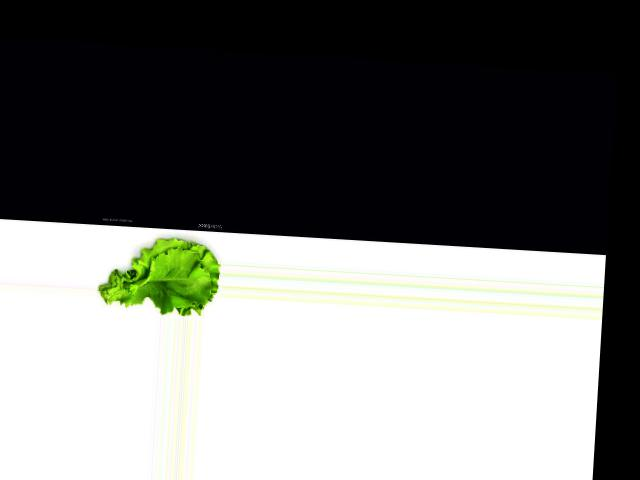lettuce: (99, 228, 221, 318)
